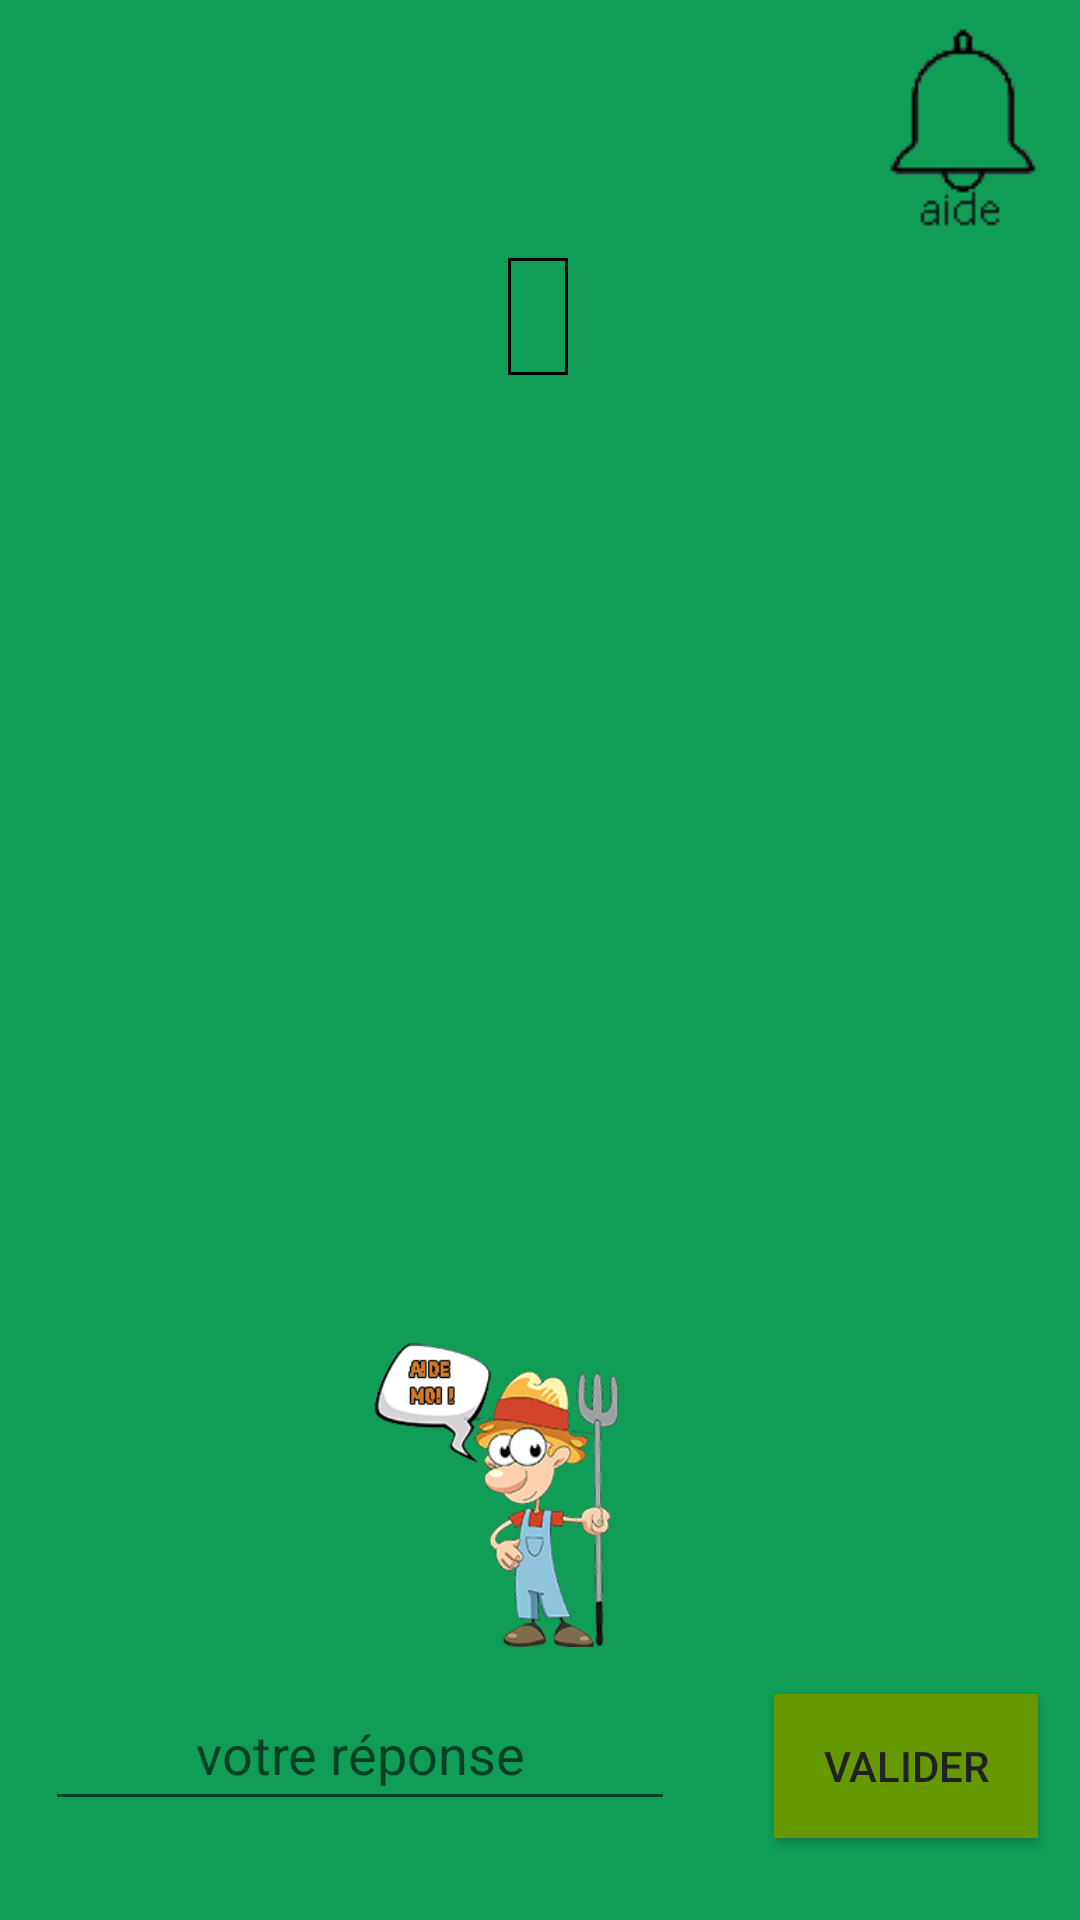

Where to tap for icons on this 1080w x 1920h app screen, as point (x, y):
fermier swag: point (496, 1495)
